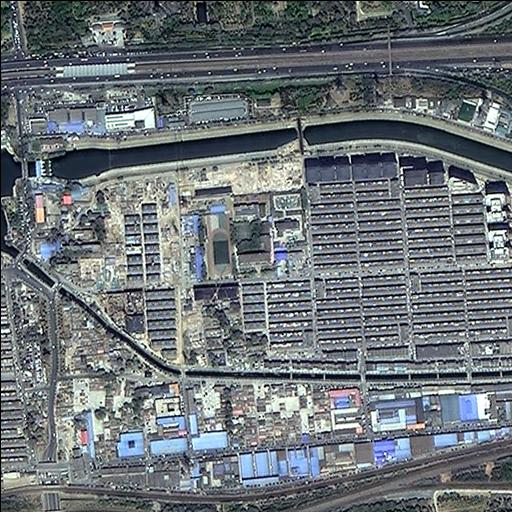school: (202, 194, 273, 280)
